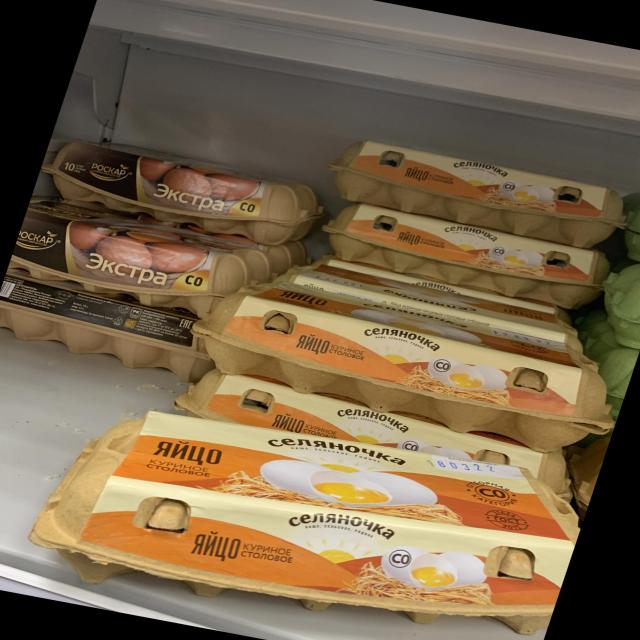organic waste: (0, 384, 595, 640), (169, 268, 640, 455), (320, 133, 640, 254), (31, 130, 331, 250), (310, 199, 618, 312), (4, 200, 270, 323), (588, 255, 640, 347), (590, 342, 640, 416), (614, 186, 640, 265)
